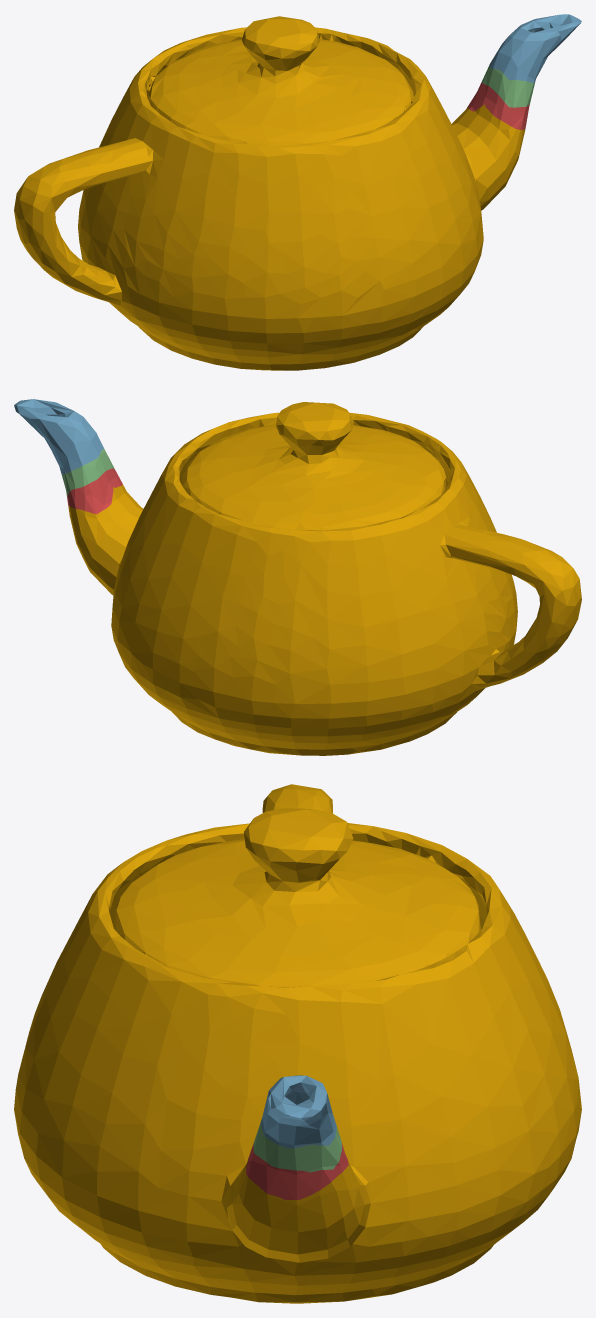
File: fractured_3_4pcs.glb
3 renders of one model, top to bottom at view 1: azimuth 30°, elevation 25°; view 2: azimuth 150°, elevation 25°; view 3: azimuth 270°, elevation 25°, orthographic. The views are drawn at different scales.
Parts seen in each view (by area): view 1: piece_0.obj, piece_2.obj, piece_1.obj, piece_3.obj; view 2: piece_0.obj, piece_2.obj, piece_1.obj, piece_3.obj; view 3: piece_0.obj, piece_2.obj, piece_1.obj, piece_3.obj.
Boxes of the visible parts, x1=… form: piece_0.obj: x1=14, y1=16, x2=525, y2=370; piece_2.obj: x1=489, y1=14, x2=581, y2=83; piece_1.obj: x1=467, y1=82, x2=529, y2=129; piece_3.obj: x1=482, y1=65, x2=534, y2=107; piece_0.obj: x1=68, y1=402, x2=581, y2=755; piece_2.obj: x1=14, y1=399, x2=104, y2=474; piece_1.obj: x1=66, y1=468, x2=122, y2=514; piece_3.obj: x1=61, y1=449, x2=114, y2=497; piece_0.obj: x1=14, y1=784, x2=581, y2=1303; piece_2.obj: x1=260, y1=1075, x2=336, y2=1148; piece_1.obj: x1=246, y1=1143, x2=348, y2=1199; piece_3.obj: x1=253, y1=1122, x2=341, y2=1172.
Bounding box in the file's own units: 1 × 0.4926 × 0.6259.
